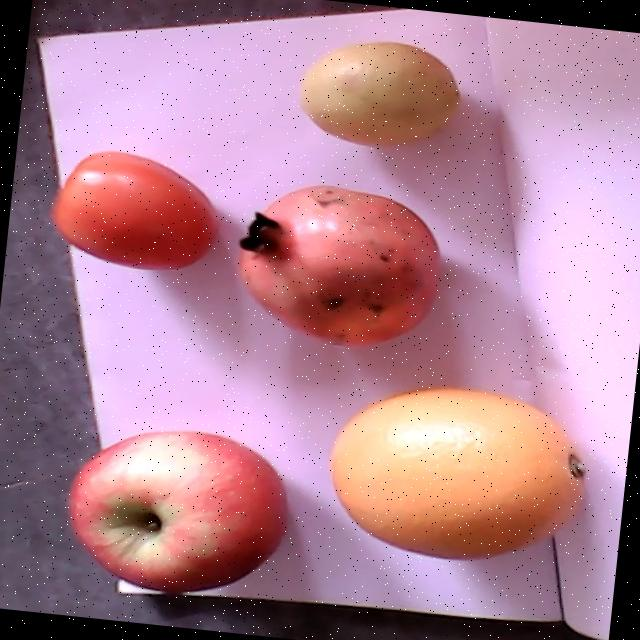apple: (67, 429, 288, 591)
lemon: (298, 42, 461, 145)
orange: (332, 388, 584, 558)
pomegranate: (238, 184, 440, 345)
tomato: (53, 149, 217, 270)
